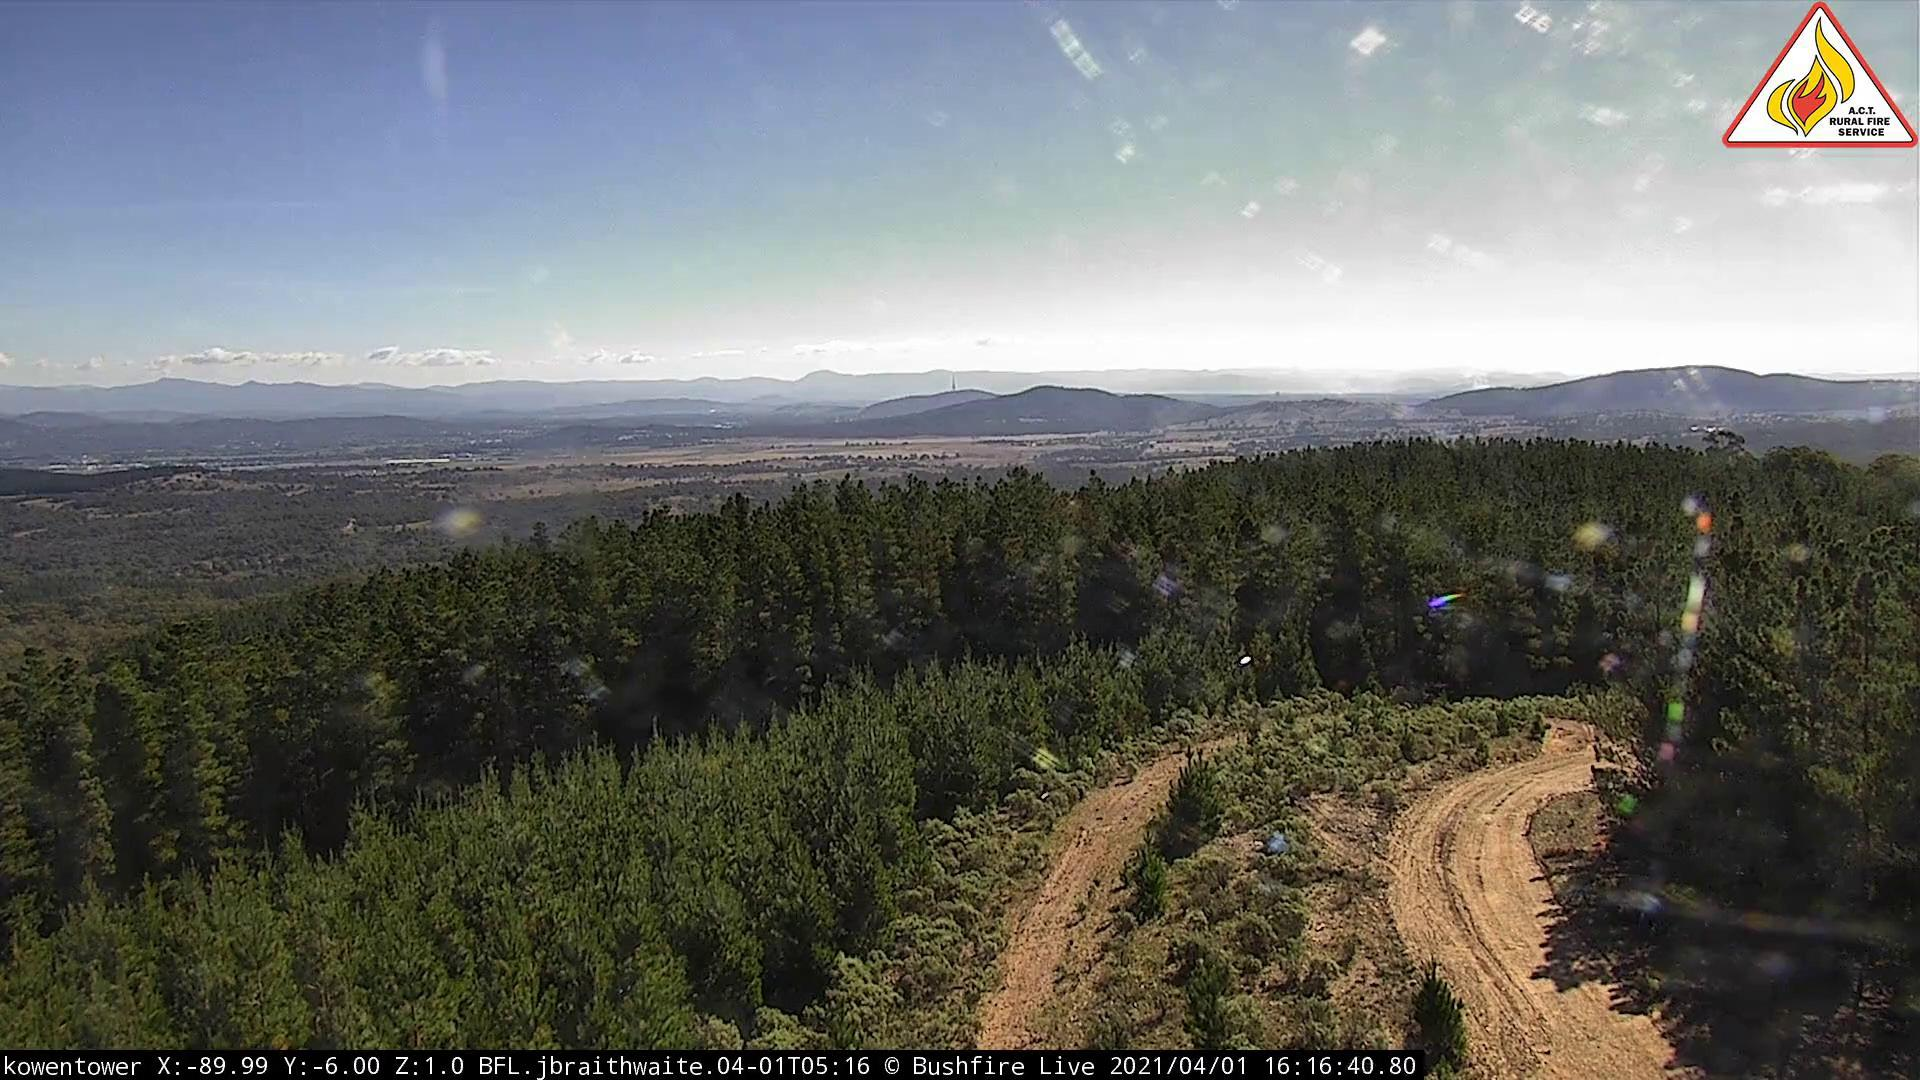Smoke: (1457, 369, 1502, 400)
